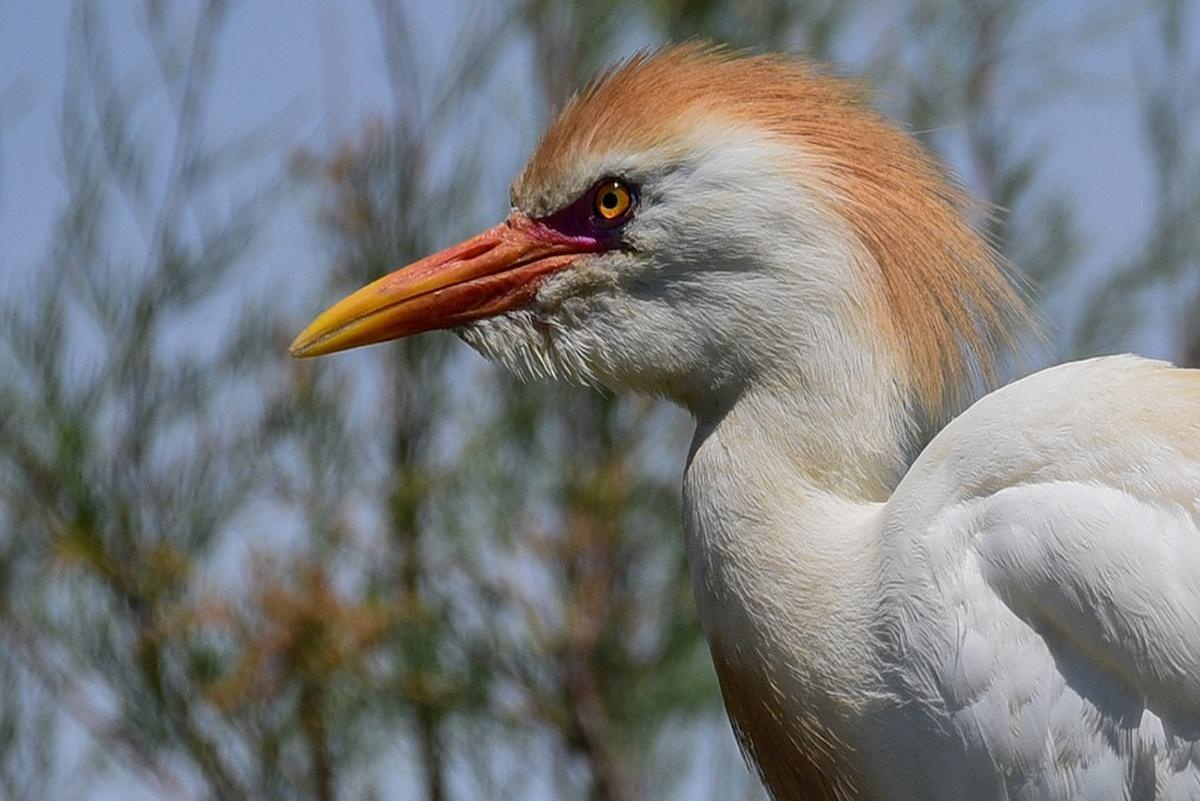egret: (313, 44, 1200, 801)
